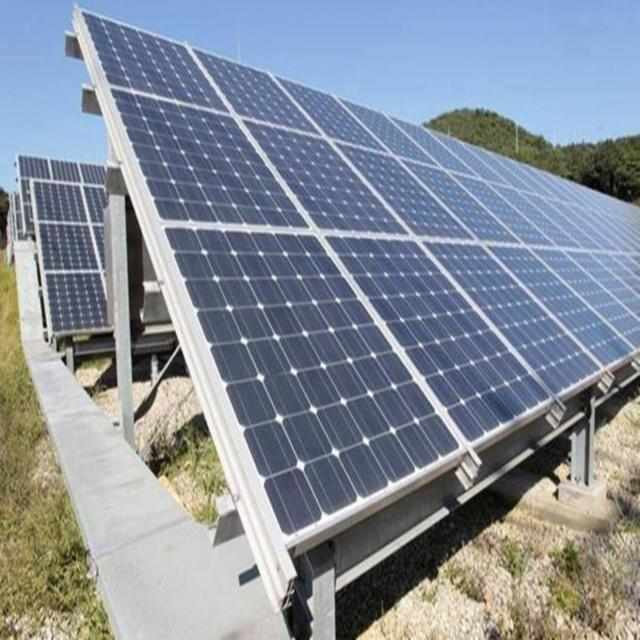clean-solar-panel: (74, 9, 640, 636)
